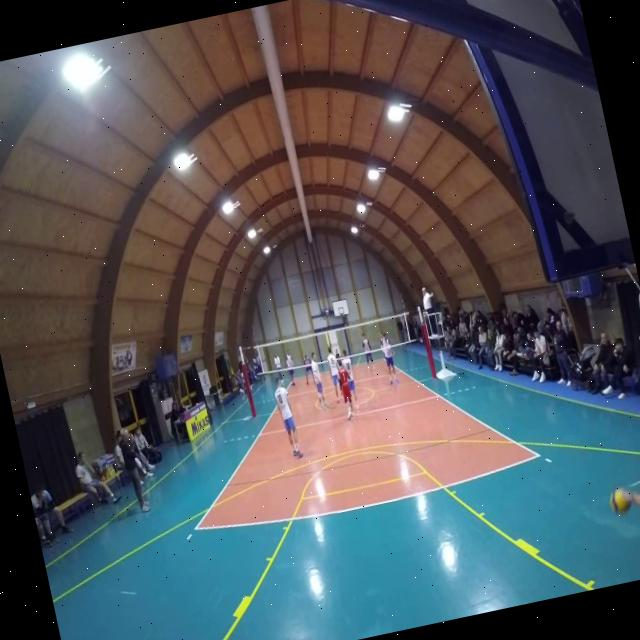Volleyball: (606, 484, 638, 520)
